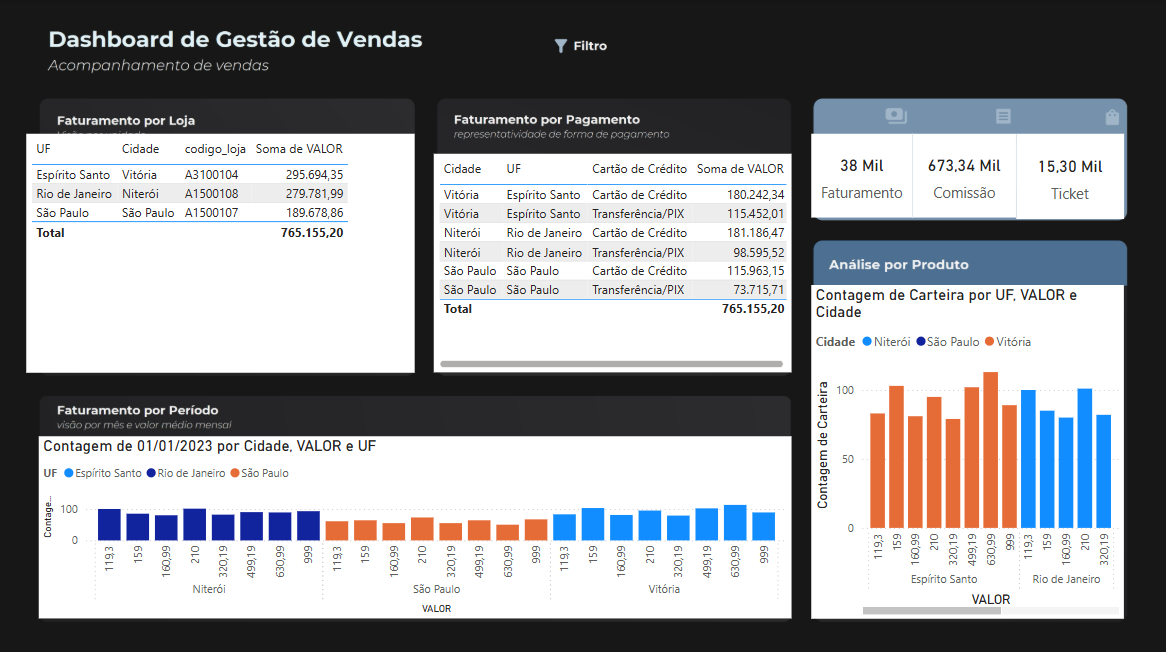

What the dashboard file says about the page in this screenshot:
{"tool":"powerbi","page":{"name":"Página 1","canvas":[1280,720],"ordinal":0},"visuals":[{"type":"columnChart","fields":{"Category":["lojas.UF","registroVendas.VALOR"],"Series":["lojas.Cidade"],"Y":["CountNonNull(registroVendas.Carteira)"]},"box":[890.6,312.9,343.1,366.4],"z":0},{"type":"tableEx","fields":{"Values":["lojas.UF","lojas.Cidade","lojas.codigo_loja","Sum(registroVendas.VALOR)"]},"box":[28.8,146.8,426.8,262.1],"z":1000},{"type":"tableEx","fields":{"Values":["lojas.Cidade","lojas.UF","registroVendas.Cartão de Crédito","Sum(registroVendas.VALOR)"]},"box":[476.2,168.8,392.5,240.1],"z":2000},{"type":"columnChart","fields":{"Category":["lojas.Cidade","registroVendas.VALOR"],"Series":["lojas.UF"],"Y":["CountNonNull(registroVendas.01/01/2023)"]},"box":[42.5,478.9,826.1,200.3],"z":3000},{"type":"card","fields":{"Values":["registroVendas.Medida"]},"box":[890.6,146.8,111.1,91.9],"z":4000},{"type":"card","fields":{"Values":["registroVendas.Comissão"]},"box":[1001.7,146.8,113.9,91.9],"z":5000},{"type":"card","fields":{"Values":["registroVendas.Ticket"]},"box":[1115.6,146.8,118,93.3],"z":6000}]}

Visuals, with their boxes in screenshot pixels (x1, y1, x2, y2), scaled from the page's 1280x720 canvas onto the 1166x652 screenshot:
columnChart - lojas.UF x registroVendas.VALOR: select_region(811, 283, 1124, 615)
tableEx - lojas.UF x lojas.Cidade: select_region(26, 133, 415, 370)
tableEx - lojas.Cidade x lojas.UF: select_region(434, 153, 791, 370)
columnChart - lojas.Cidade x registroVendas.VALOR: select_region(39, 434, 791, 615)
card - registroVendas.Medida: select_region(811, 133, 912, 216)
card - registroVendas.Comissão: select_region(912, 133, 1016, 216)
card - registroVendas.Ticket: select_region(1016, 133, 1124, 217)
